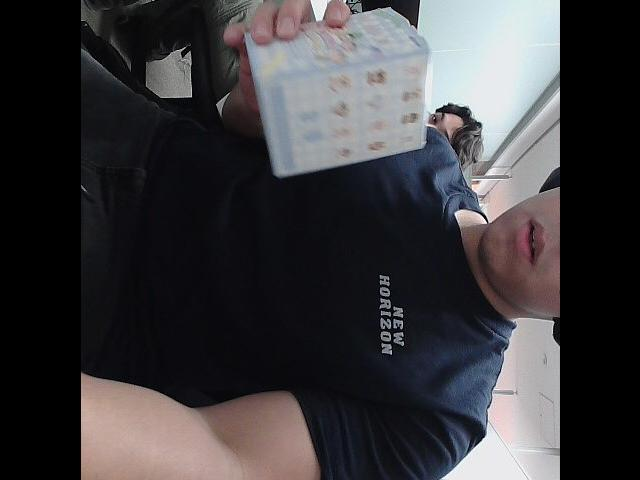Blind_box: (249, 0, 434, 189)
